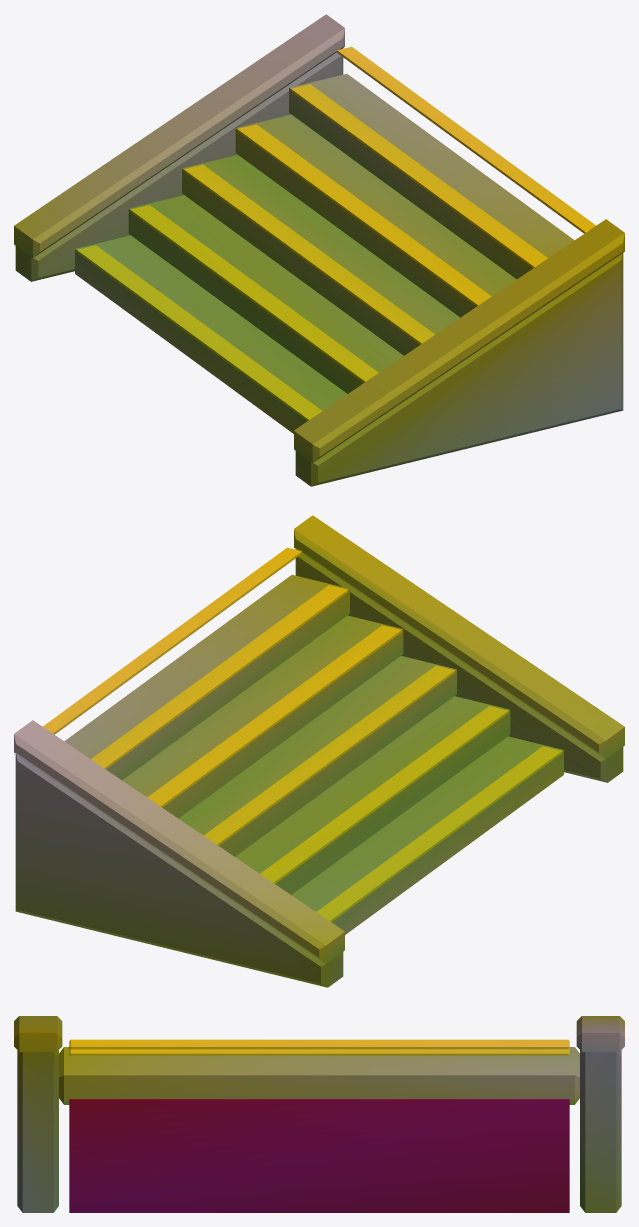
Rendered from Platform_Stairs_Start.fbx.
3 views of the same model, one above another, from view 1: azimuth 30°, elevation 25°; view 2: azimuth 150°, elevation 25°; view 3: azimuth 270°, elevation 25° (orthographic).
Visible parts, largest first — view 1: Platform_Stairs_Start; view 2: Platform_Stairs_Start; view 3: Platform_Stairs_Start.
Part boxes in pixels (<box>): Platform_Stairs_Start: <box>14,14,624,486</box>; Platform_Stairs_Start: <box>14,515,624,987</box>; Platform_Stairs_Start: <box>14,1016,624,1212</box>.
Bounding box in the file's own units: 2.1 × 1.15 × 3.54.
